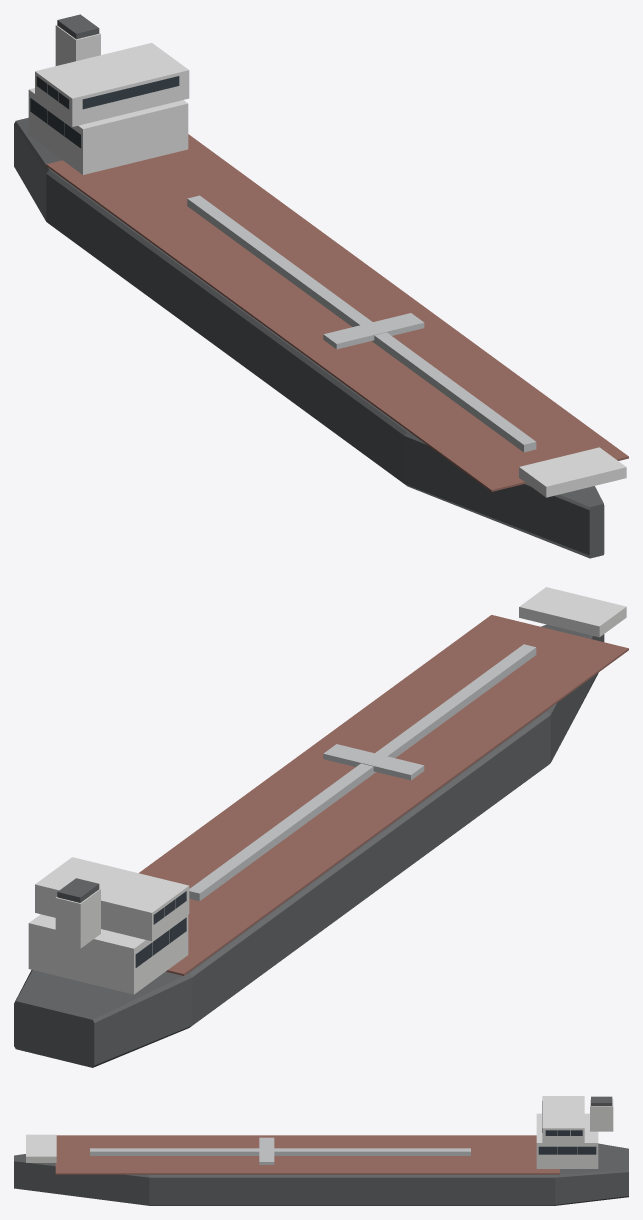
Rendered from vessel-tanker.glb.
3 views of the same model, one above another, from view 1: azimuth 30°, elevation 25°; view 2: azimuth 150°, elevation 25°; view 3: azimuth 270°, elevation 25° (orthographic). The views are drawn at different scales.
Visible parts, largest first — view 1: vessel-tanker; view 2: vessel-tanker; view 3: vessel-tanker.
Boxes of the visible parts, <box> form: vessel-tanker: <box>14,14,628,558</box>; vessel-tanker: <box>14,587,628,1067</box>; vessel-tanker: <box>14,1096,628,1205</box>.
Bounding box in the file's own units: 14 × 14 × 90.
